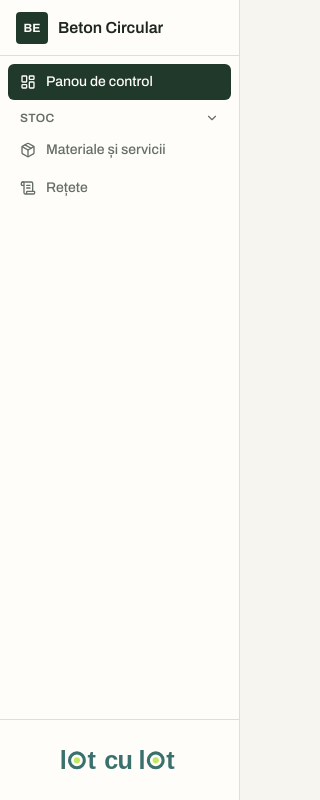
Test case: Sidebar › grupuri de navigatie › pliaza grupul la click pe antet, ascunzand copiii
The image size is (320, 800).
Click the button "Stoc" at (120, 118), box [8,104,231,132]
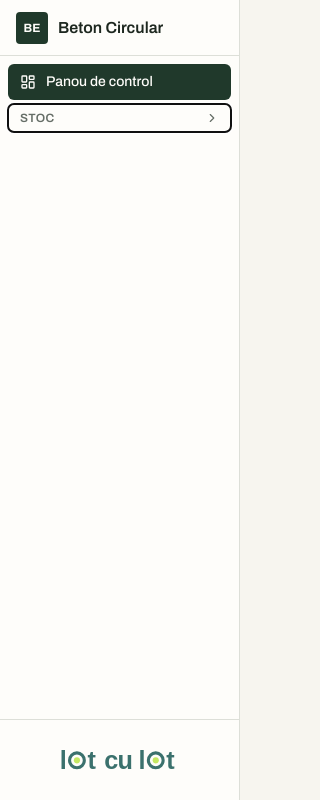
Check: the button "Stoc" is collapsed, box [8,104,231,132]
Check: the link "Materiale și servicii" is gone
